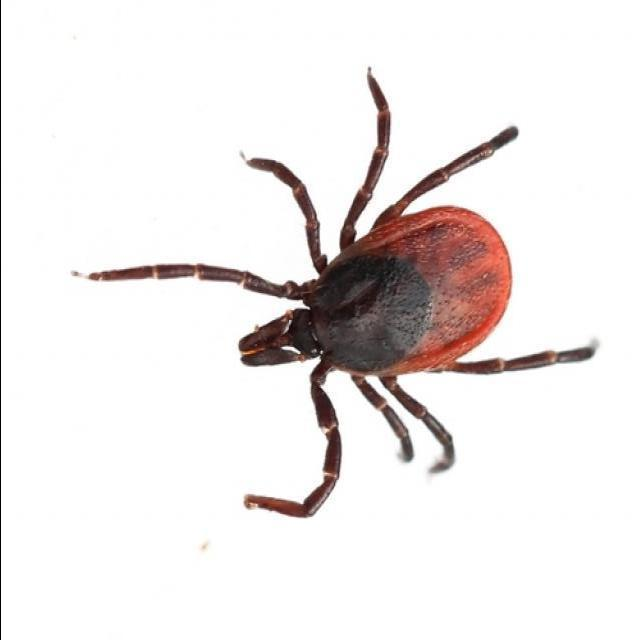Ixodes Ricinus-F: (70, 67, 595, 520)
